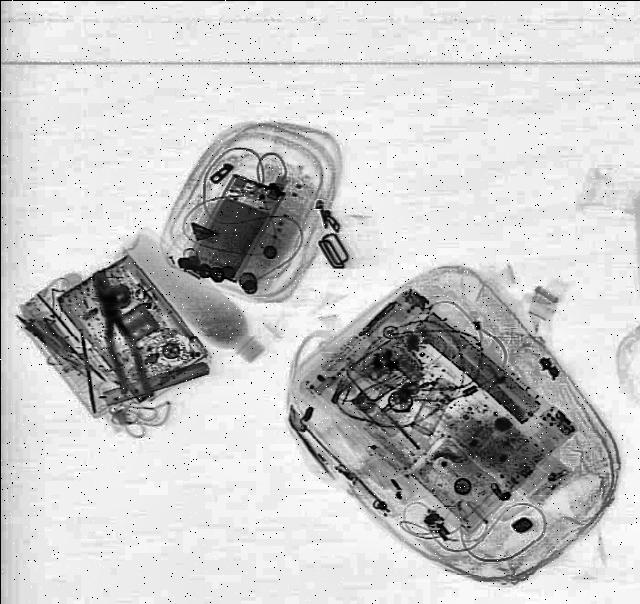Pliers: (80, 265, 154, 403)
